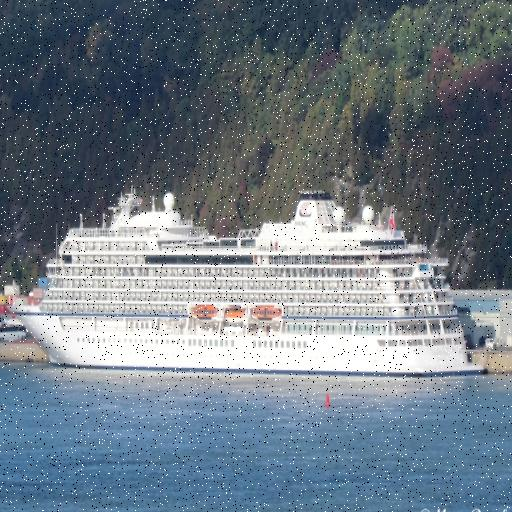cruises: (4, 182, 495, 383)
